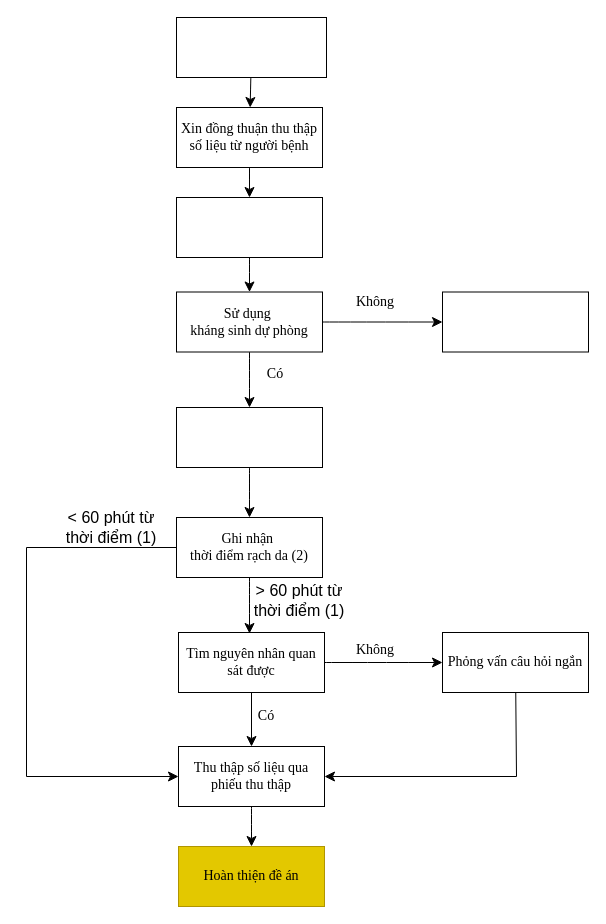
Some shapes in this 606 by 924 pixel diagram are drawn without their labels. Here are the shapes that lost their labels. From the top down, the box of each, then its label:
(176, 16, 326, 78): Người bệnh phẫu thuật đại - trực tràng chương trình
(176, 196, 322, 258): Thu thập thông tin từ HSBA
(442, 291, 588, 352): Loại
(176, 406, 322, 468): Ghi nhận thời điểm sử dụng KSDP (1)
